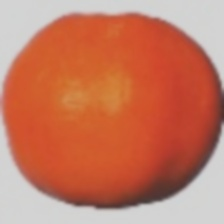tangerine: (7, 26, 194, 161)
